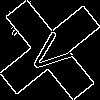V: (25, 25, 81, 79)
